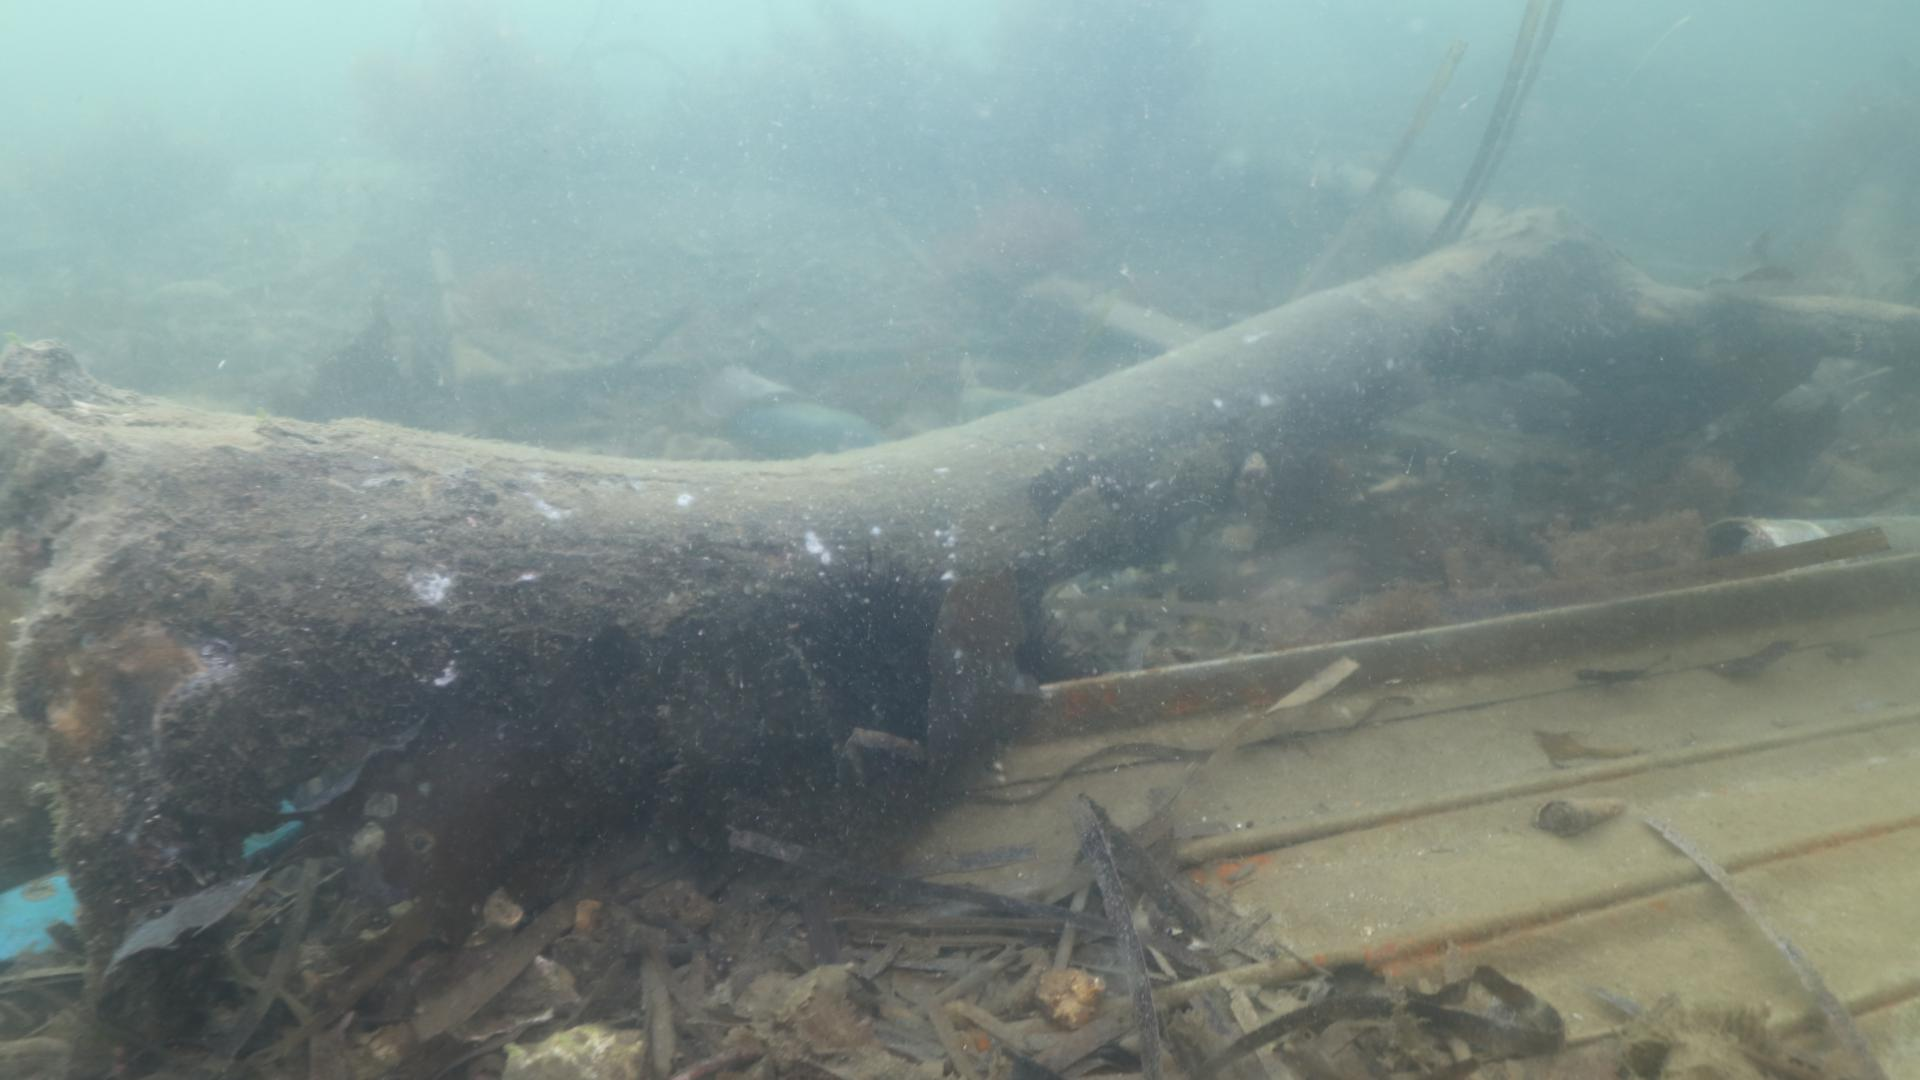wood: (0, 0, 1920, 1005), (1019, 268, 1208, 353)
